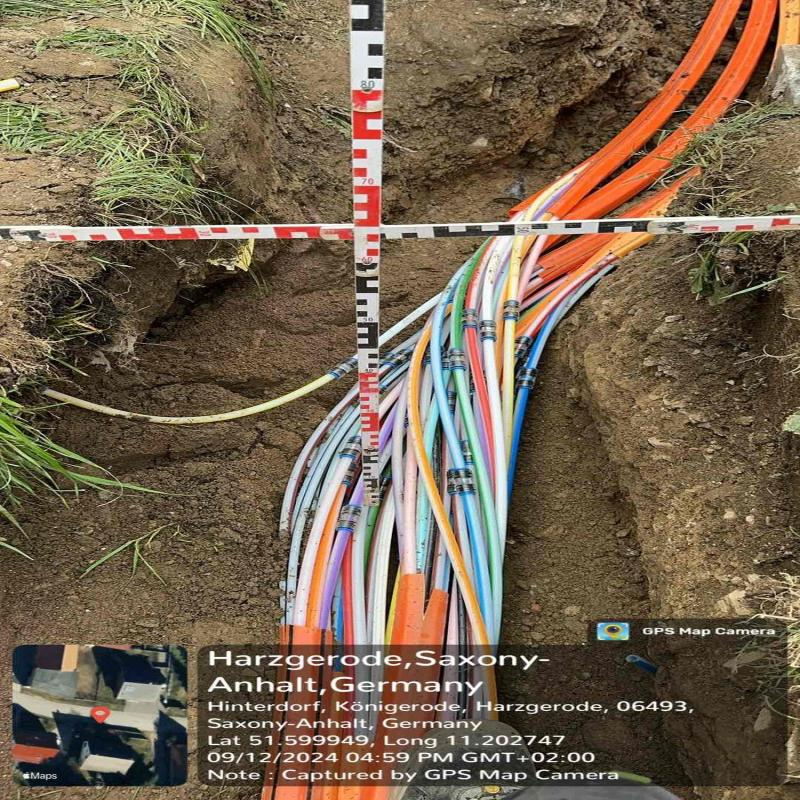Orang-Speednetrohrchen: (449, 2, 782, 307)
